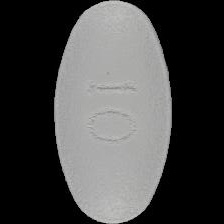55289-870: (0, 0, 224, 224)
